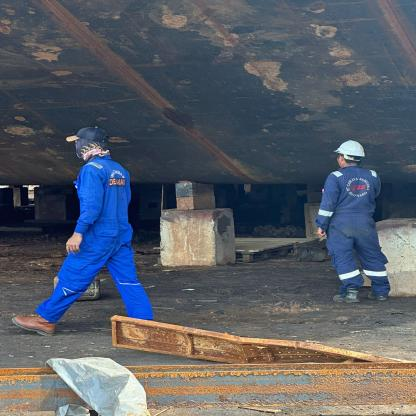bota: (10, 313, 56, 337), (333, 288, 362, 304), (367, 290, 388, 304)
